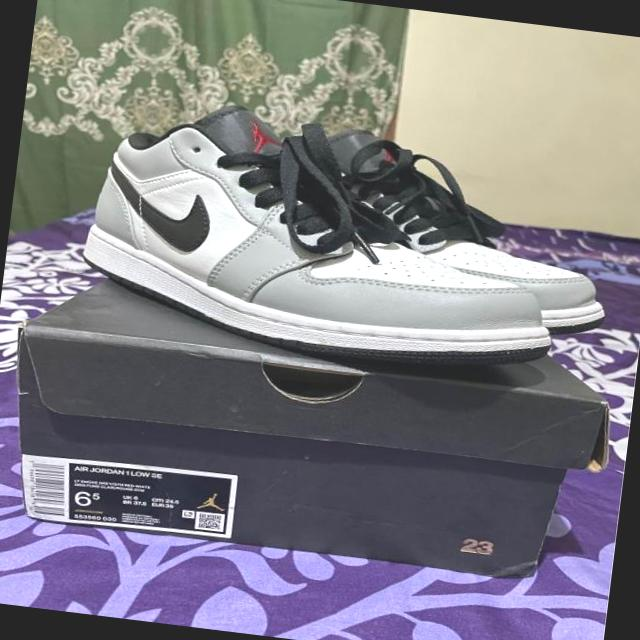nike_original_jordan: (77, 86, 577, 382), (294, 119, 640, 346)
